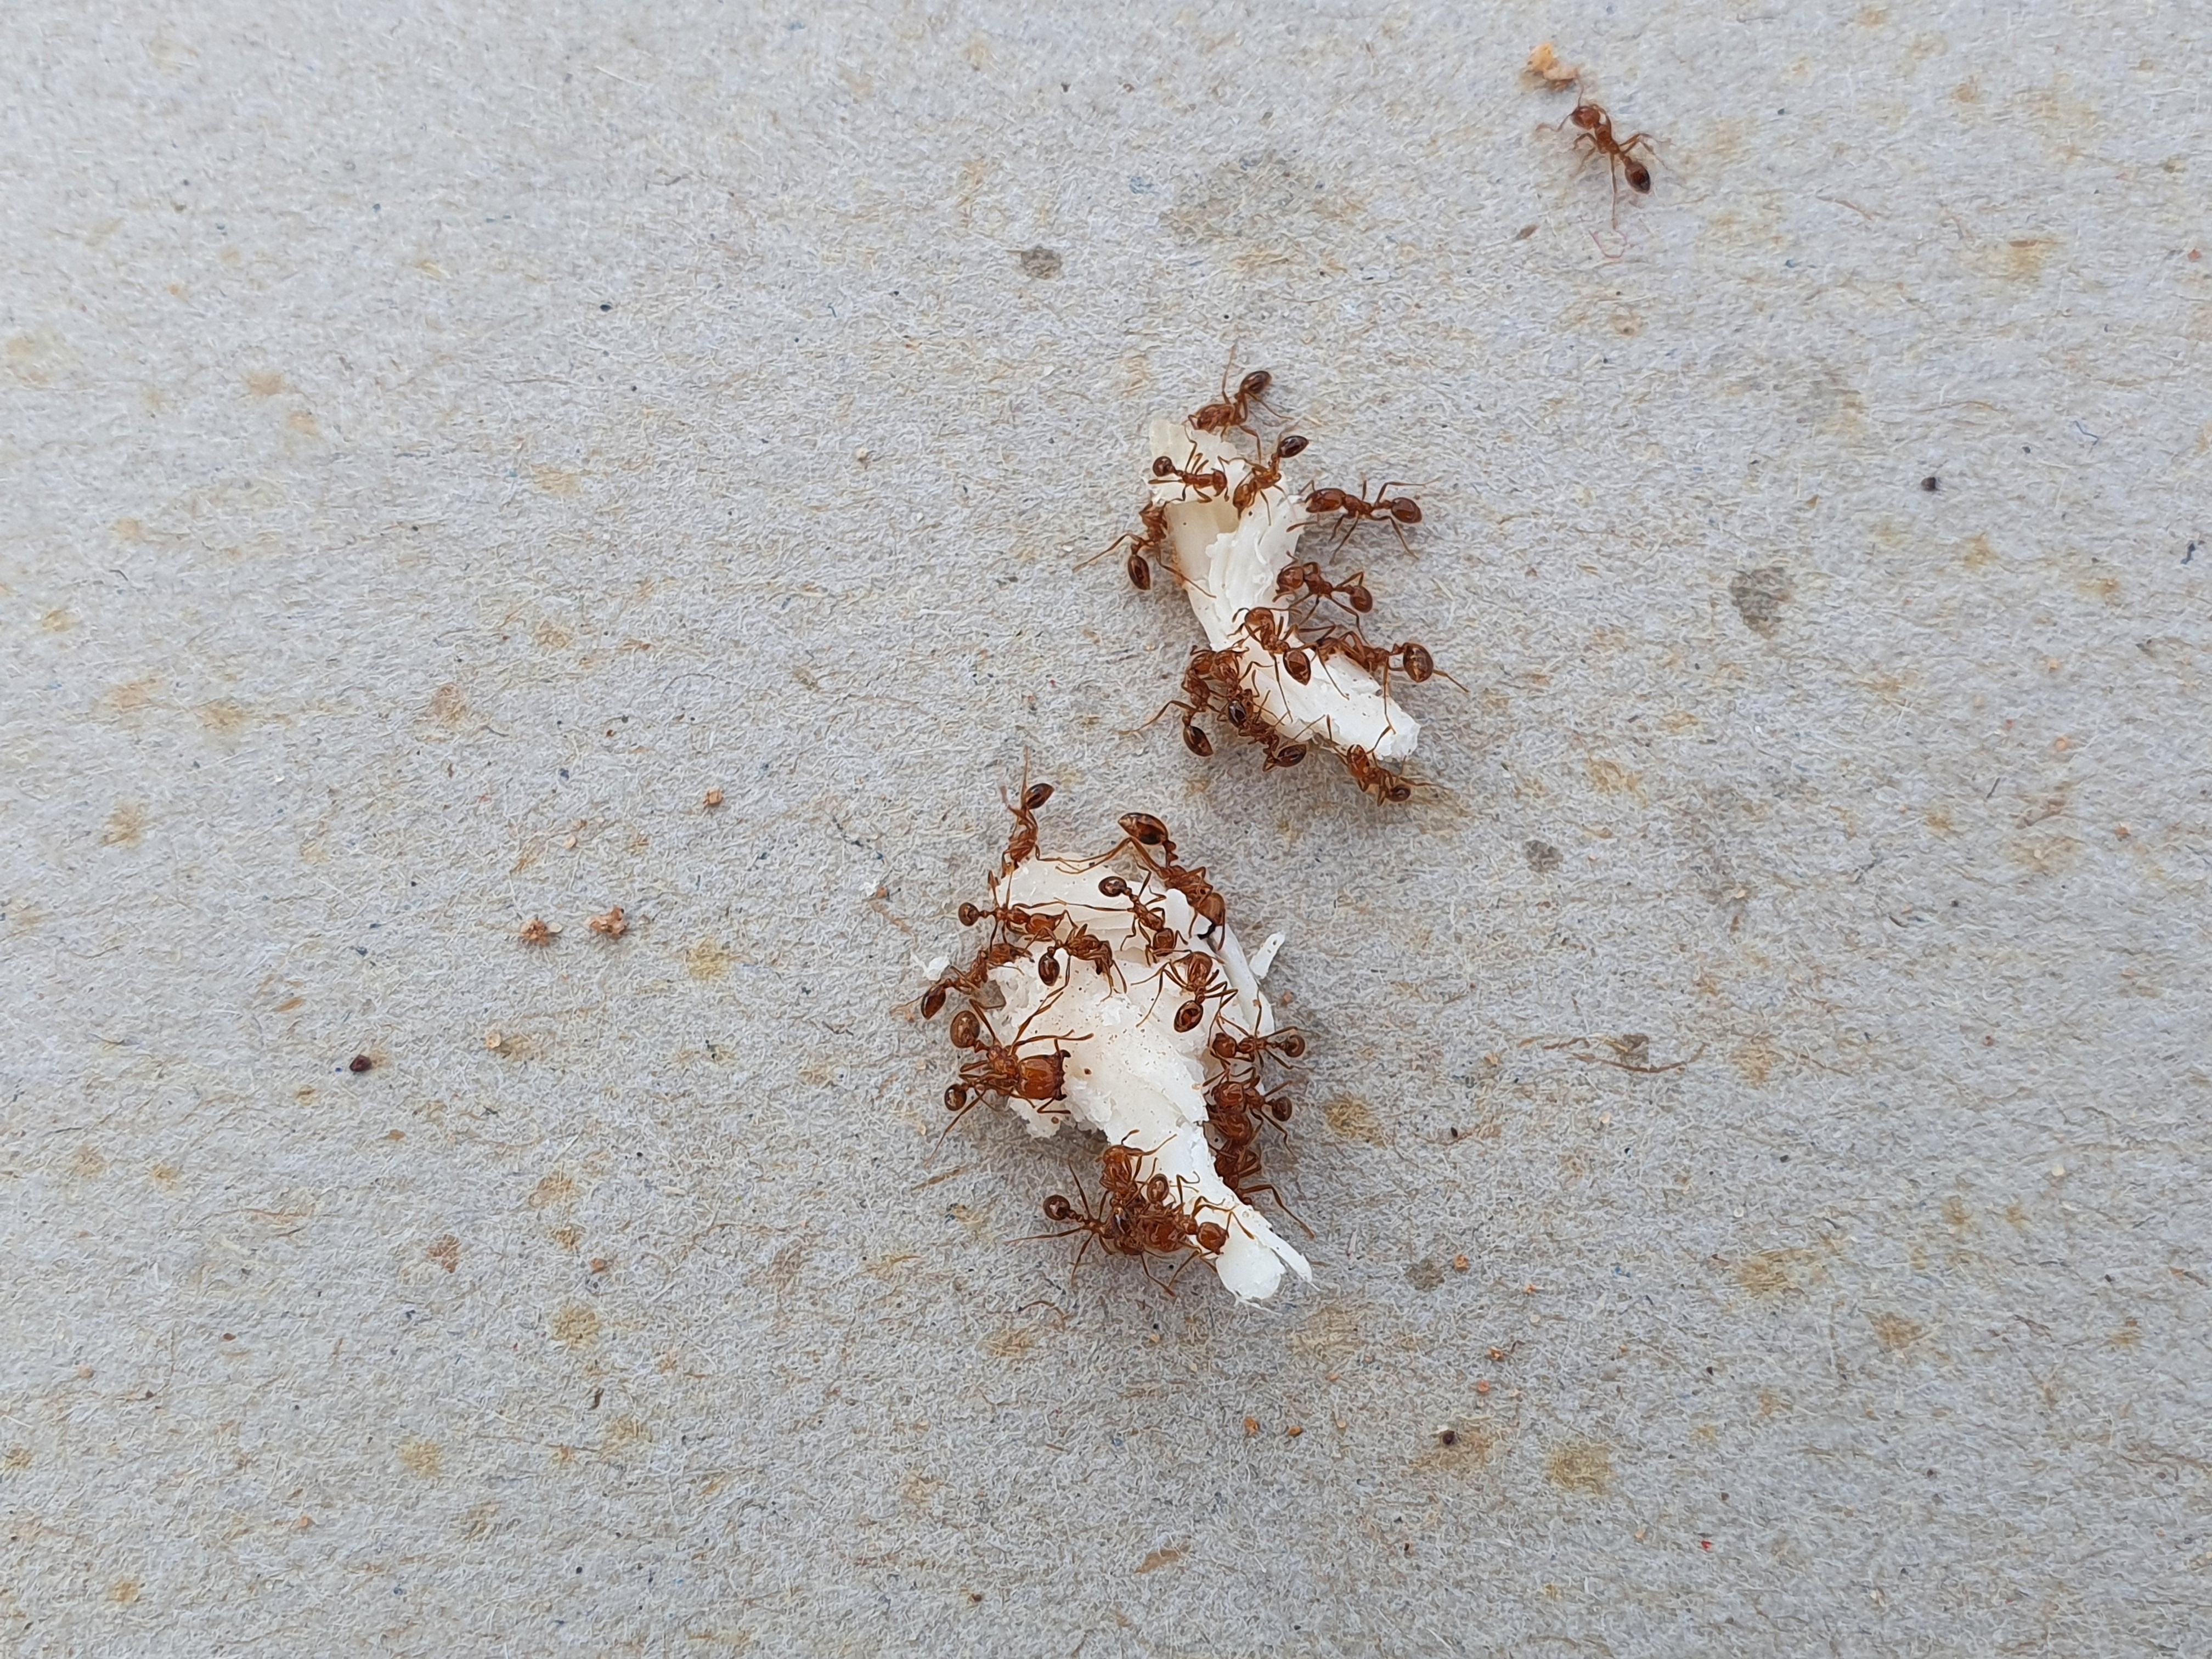Solenopsis_geminata: (1522, 61, 1683, 249), (965, 732, 1082, 885), (1289, 457, 1447, 561), (1176, 331, 1291, 444), (1029, 918, 1136, 1023), (1132, 943, 1235, 1042), (1263, 540, 1392, 619), (937, 868, 1062, 943), (1202, 1002, 1324, 1077), (1134, 436, 1233, 507)
